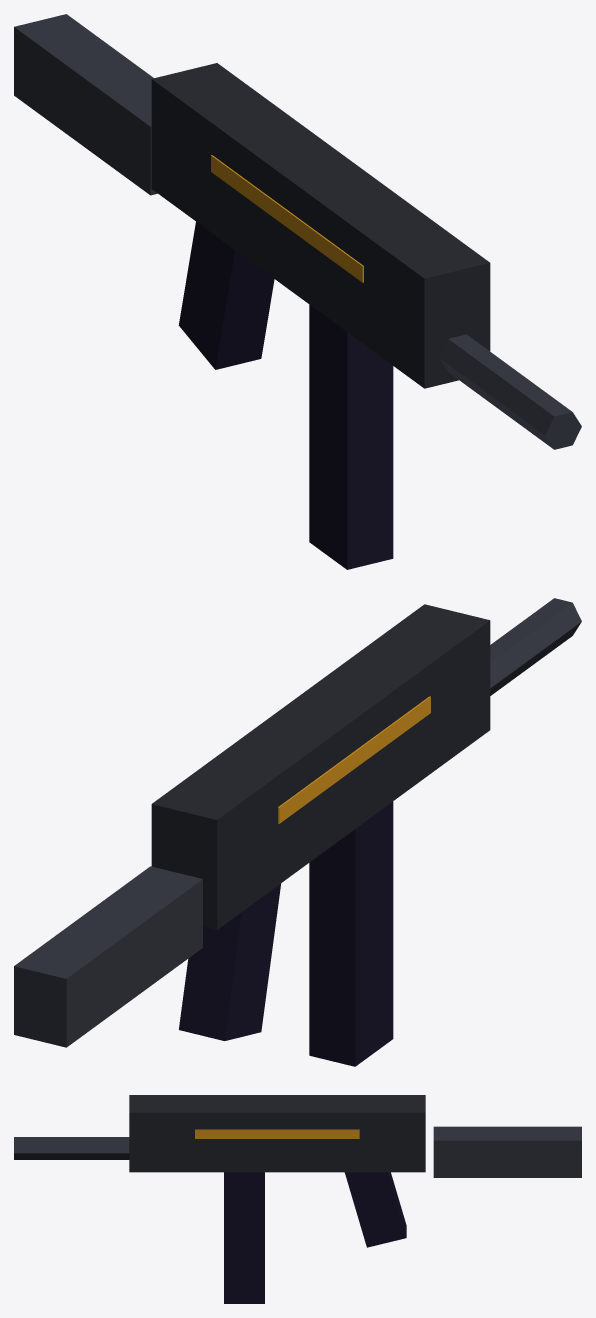
Rendered from hornet_smg.glb.
3 views of the same model, one above another, from view 1: azimuth 30°, elevation 25°; view 2: azimuth 150°, elevation 25°; view 3: azimuth 270°, elevation 25° (orthographic). The views are drawn at different scales.
Visible parts, largest first — view 1: model; view 2: model; view 3: model.
Part boxes in pixels (<box>): model: <box>14,14,581,569</box>; model: <box>14,598,581,1066</box>; model: <box>14,1095,581,1303</box>.
Size of the model in its own units: 0.052 by 0.26 by 0.69.
